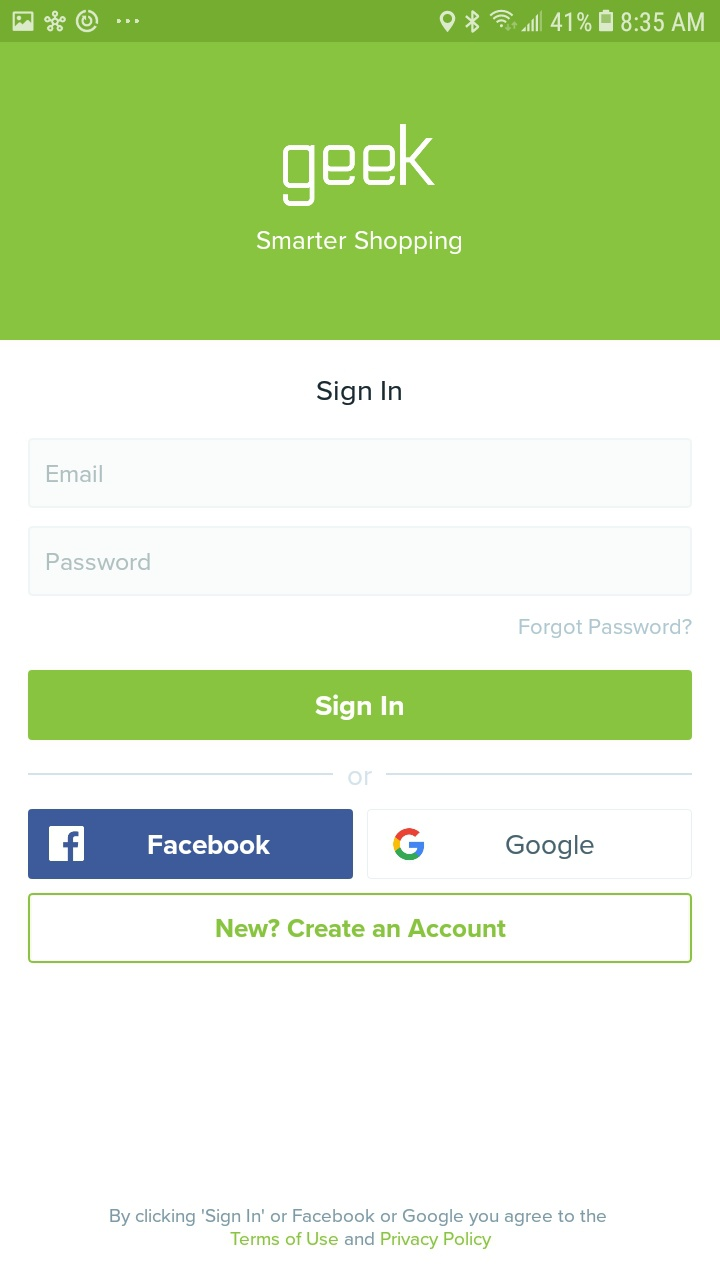EditText: (29, 526, 692, 597), (29, 438, 692, 509)
Text: (110, 1208, 607, 1250), (283, 124, 436, 208), (257, 231, 462, 255), (519, 619, 692, 639), (317, 381, 402, 406), (47, 553, 152, 571), (48, 465, 104, 484), (348, 771, 373, 786)
TextButton: (29, 893, 693, 964), (29, 670, 692, 741), (367, 809, 692, 880), (29, 809, 354, 880)
UpperTaskBar: (1, 1, 720, 43)
